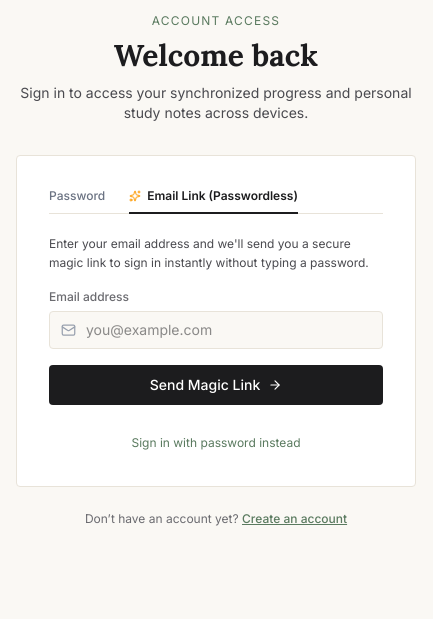
Passwordless Email Magic Link Authentication › SignInPage - Magic Link Flow › handles network error gracefully
Type "offline@example.com" into the field with placeholder "you@example.com" at (216, 330), box [49,310,383,348]
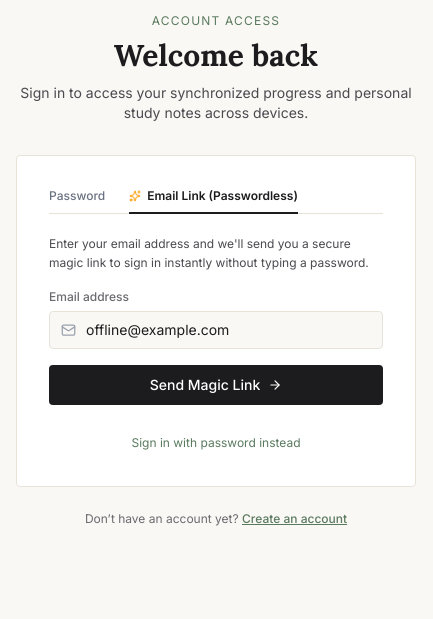
Click the button "Send Magic Link" at (216, 384), box [49,364,383,404]
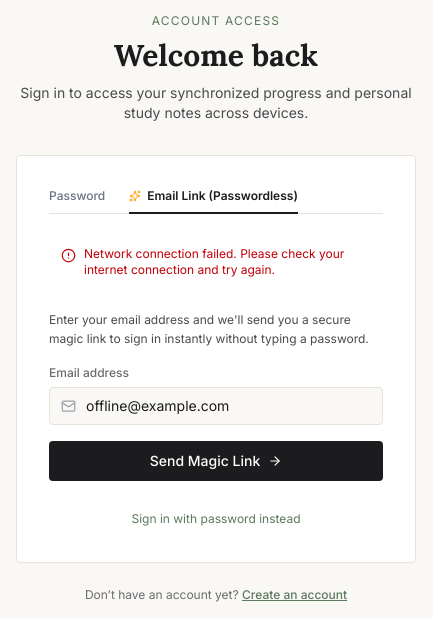
Expected: the text "Network connection failed. Please check your internet connection" is shown, [84,246,344,276]
